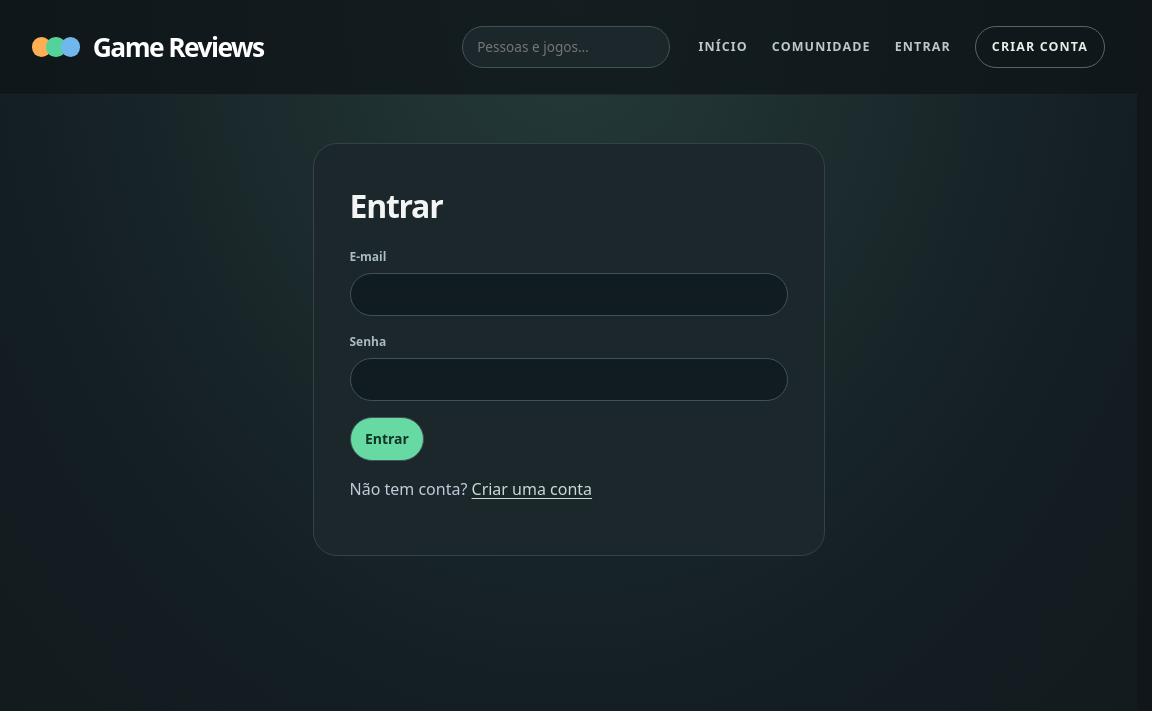
Test case: campos não modificados são omitidos
In the field labelled "E-mail": (568, 294) [350,273,788,316], type "test@example.com"
In the password field labelled "Senha": (568, 380) [350,358,788,402], type "test-only"
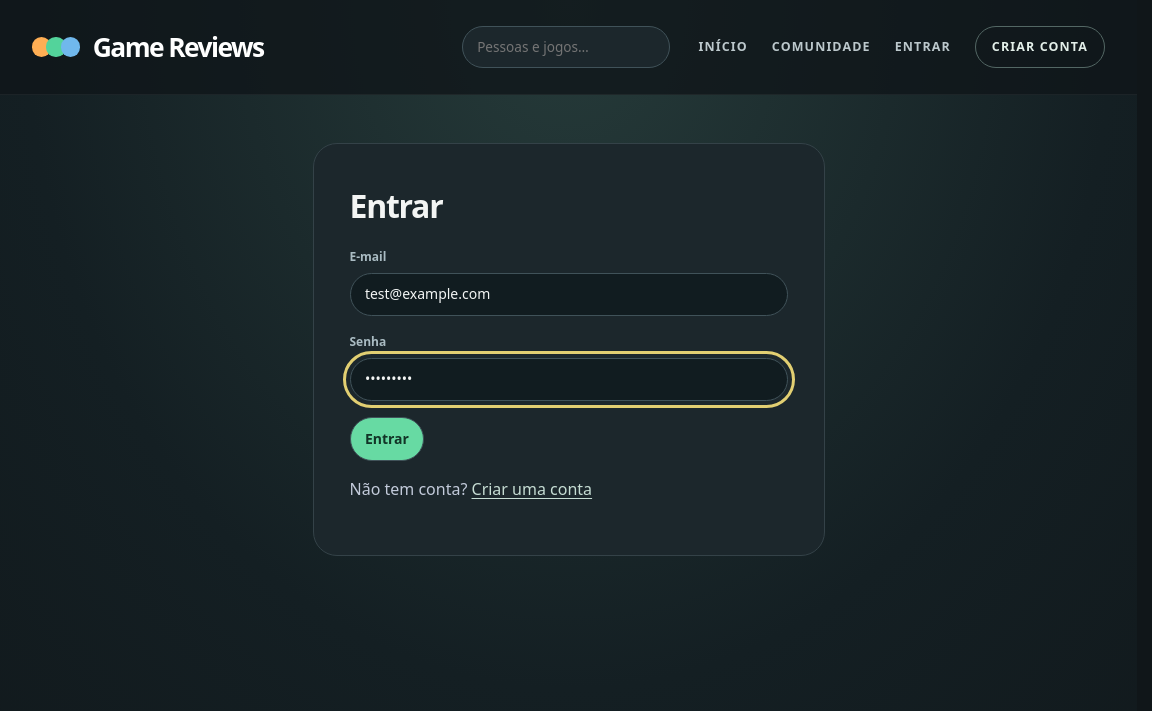
Click the button "Entrar": (387, 439) [350,417,424,461]
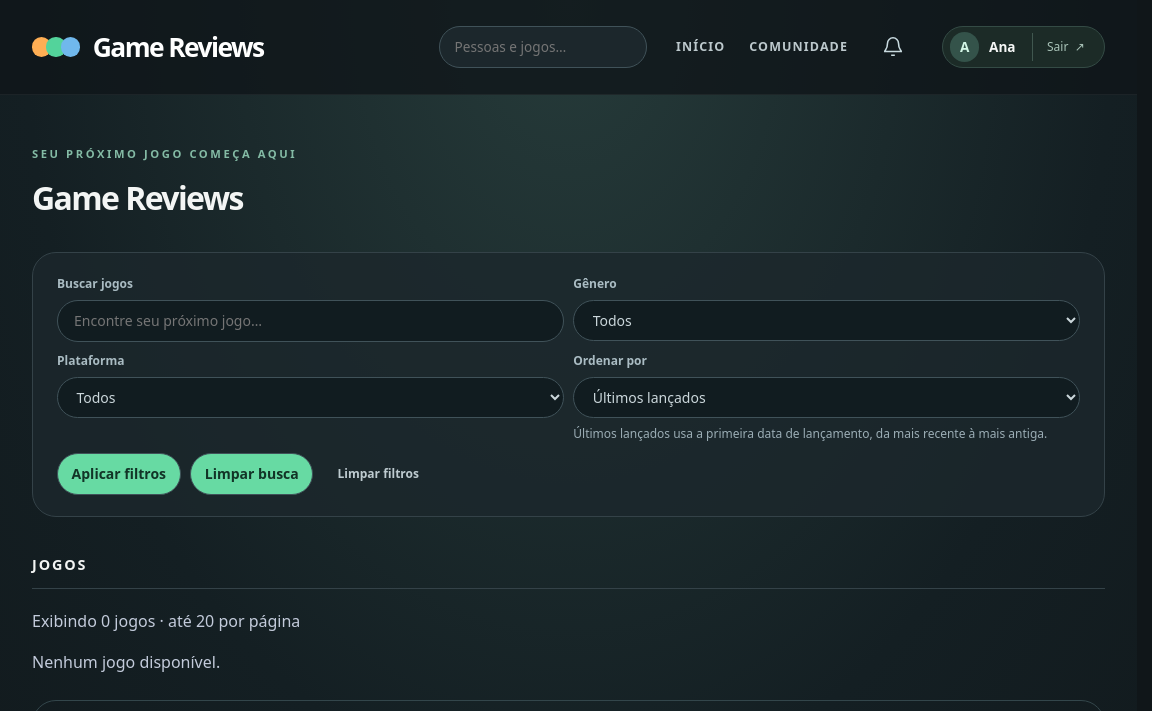
Click the link with aria-label "Meu perfil": (965, 47) [950,32,1016,62]
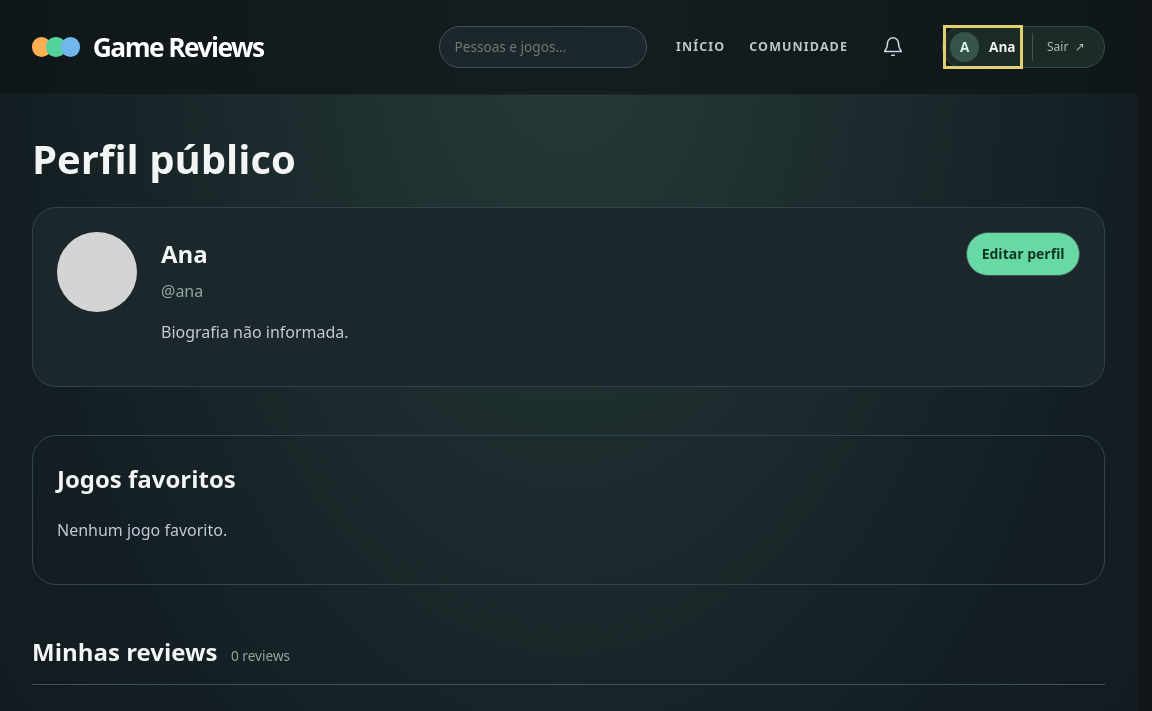
Check: the heading "Ana" is shown, box [161,235,208,273]
Click the button "Editar perfil": (1023, 254) [966,232,1080,276]
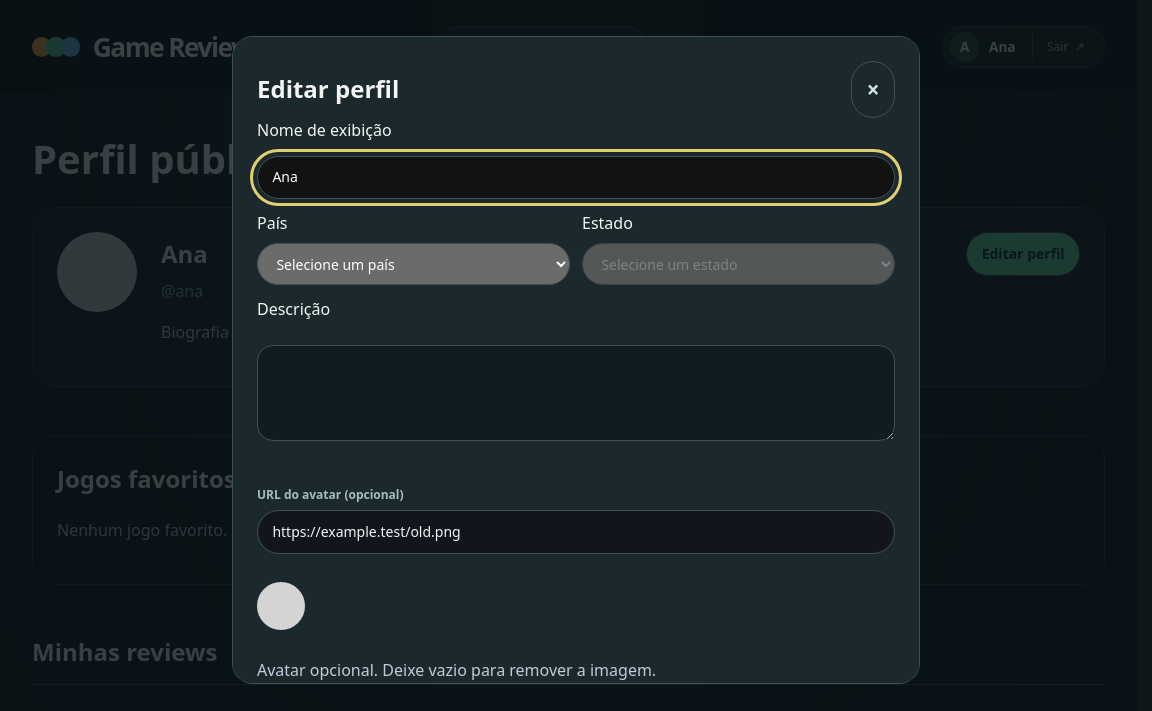
In the text box labelled "Descrição": (576, 393) [257,345,895,441], type "Nova bio"
(page scrolled)
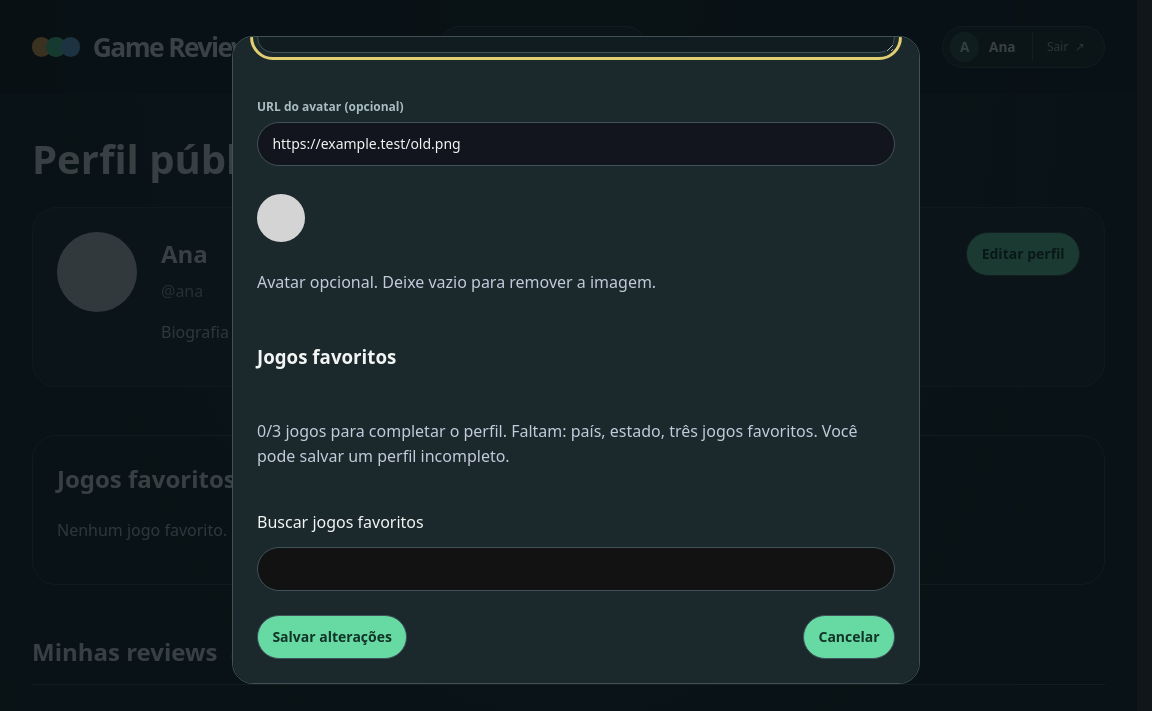
Click the button "Salvar alterações": (332, 637) [257,615,407,659]
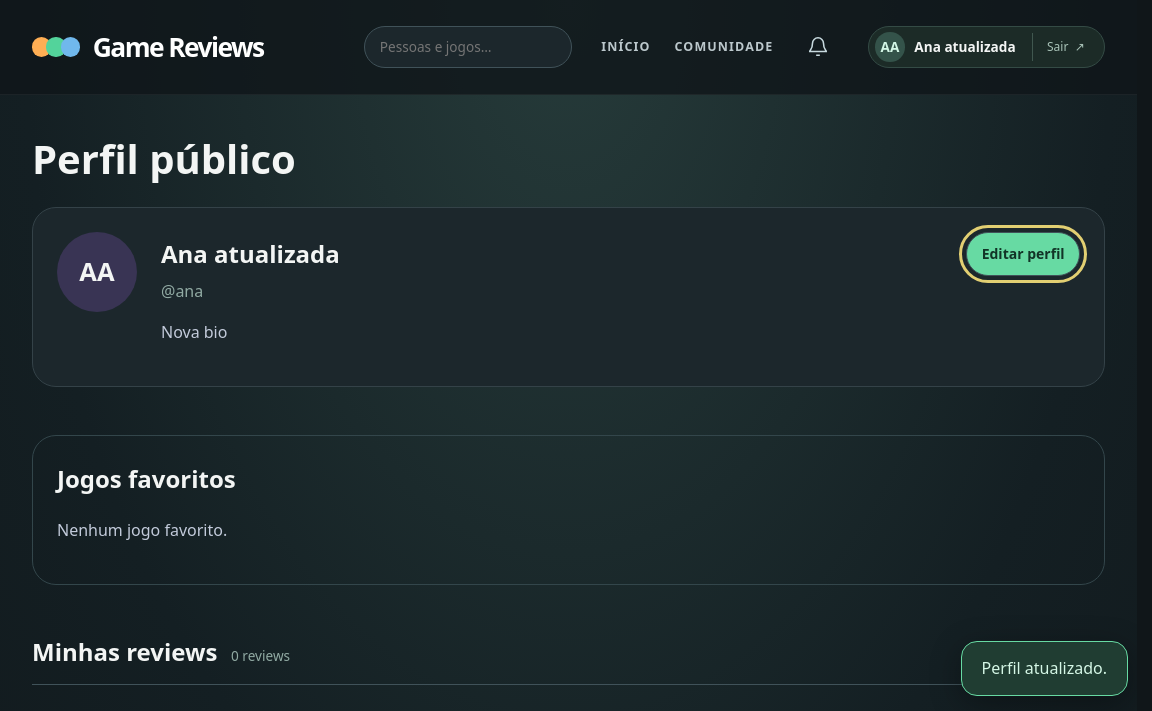
Check: the text "Perfil atualizado." is shown, box [961,641,1128,696]
